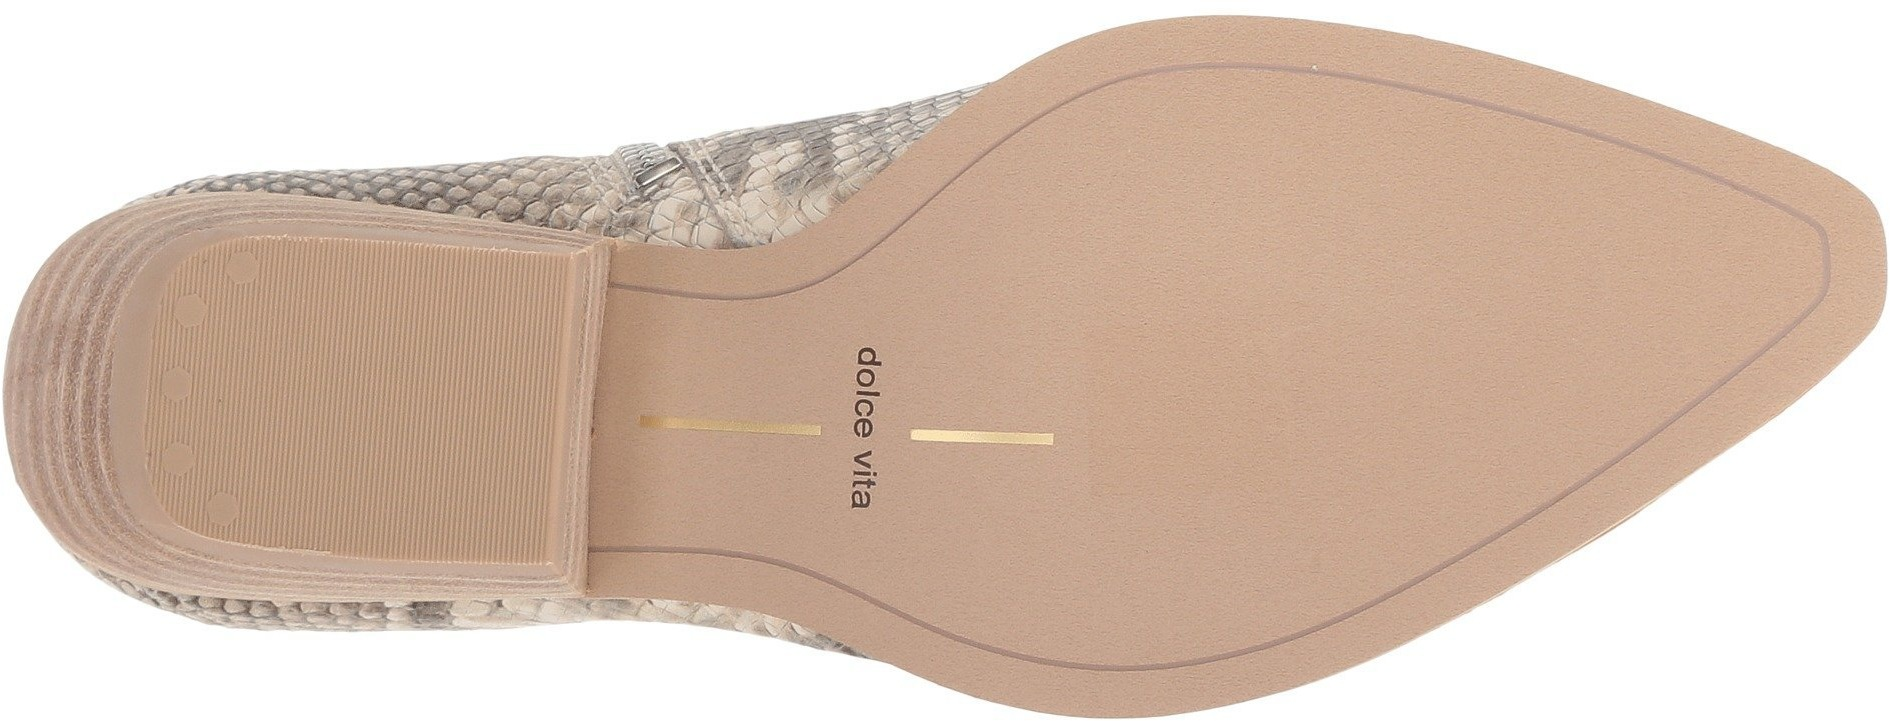exclude: (580, 190, 844, 640)
other: (1208, 175, 1602, 533), (148, 239, 574, 563), (270, 272, 548, 524), (970, 164, 1210, 398), (964, 420, 1209, 643)
polygon: (149, 356, 207, 414), (195, 481, 253, 537), (215, 242, 274, 297)
quad: (904, 420, 1064, 464)
ribbon: (1653, 313, 1760, 423), (1649, 131, 1755, 238)
text: (834, 333, 898, 520)
